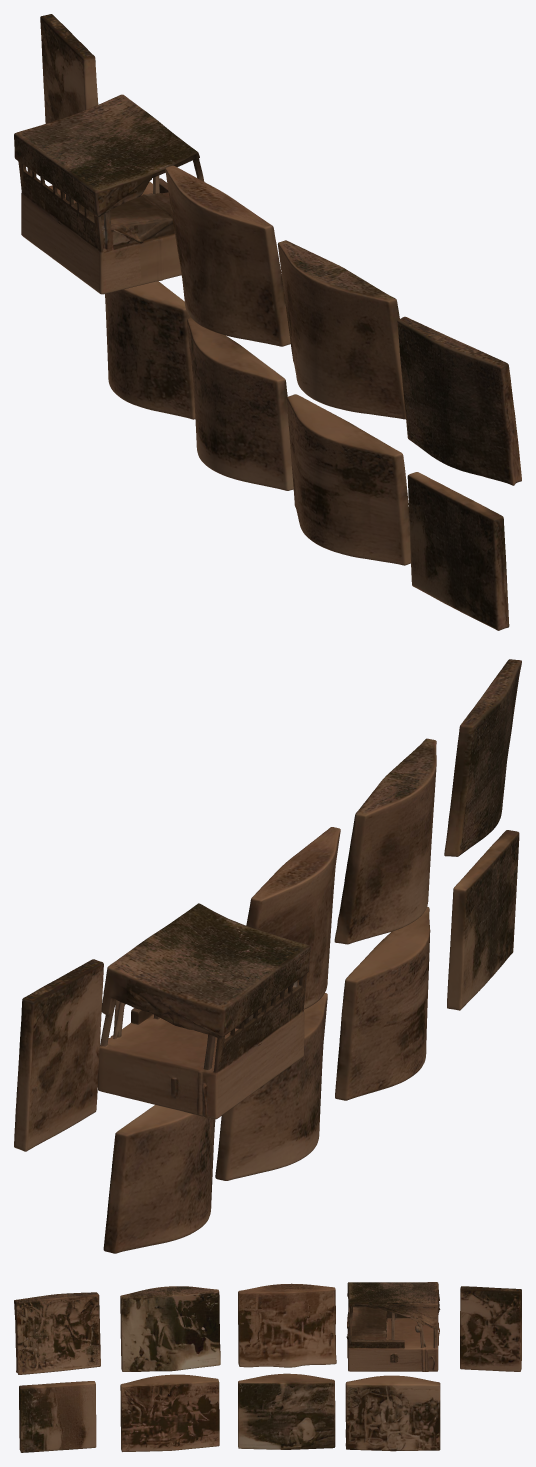
Rendered from village_picture.fbx.
The picture shows the model from 3 angles, top to bottom: view 1: azimuth 30°, elevation 25°; view 2: azimuth 150°, elevation 25°; view 3: azimuth 270°, elevation 25°; orthographic projection. The views are drawn at different scales.
Parts seen in each view (by area): view 1: obj1; view 2: obj1; view 3: obj1.
Part boxes in pixels (left/top/right/bottom): obj1: left=14, top=14, right=521, bottom=630; obj1: left=14, top=659, right=521, bottom=1253; obj1: left=14, top=1282, right=521, bottom=1452.
Bounding box in the file's own units: 16.25 × 34.06 × 97.99.
Materials: 1 (1 with a texture image).
